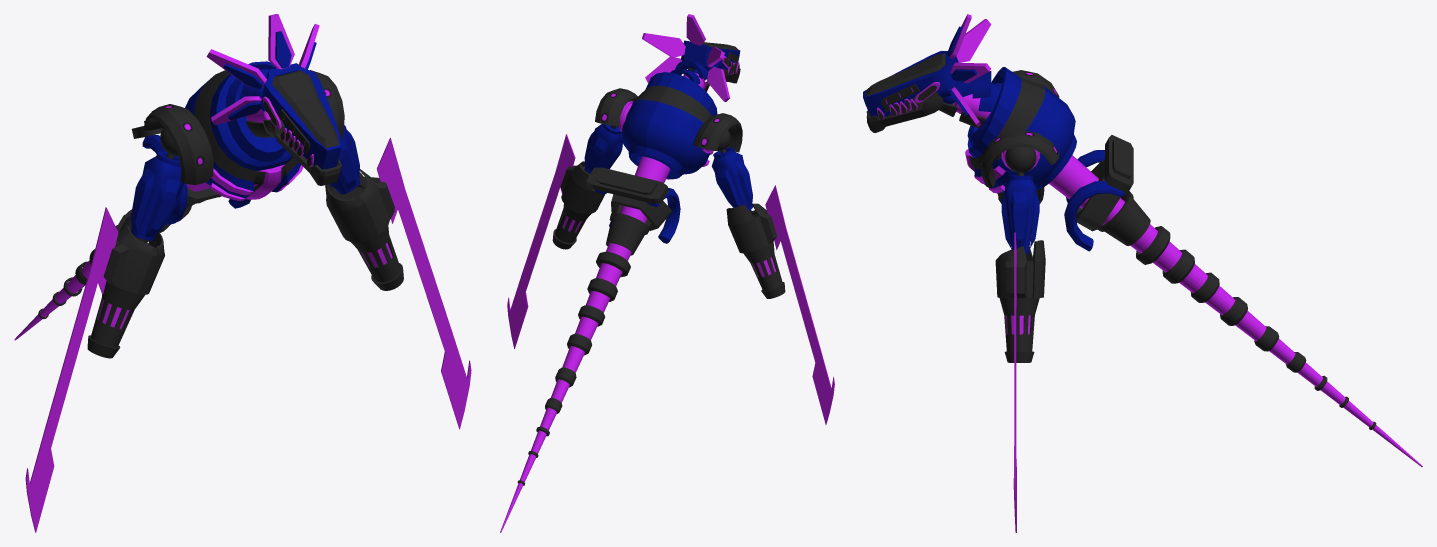
Rendered from Reaver_textured.fbx.
3 renders of one model, left to right at view 1: azimuth 30°, elevation 25°; view 2: azimuth 150°, elevation 25°; view 3: azimuth 270°, elevation 25°, orthographic. The views are drawn at different scales.
Visible parts, largest first — view 1: Left_Forearm (×2), Left_Arm_Blade (×2), Torso1, Rightt_Shoulder_Brace, Head_Top_base, Head_Plate, Left_Arm_Plate_Front (×2), Top_Arm_1, pCube2 (×2), Jaw, Tail_Center, Left_Arm_Plate_Right (+2 smaller); view 2: Torso1, Left_Forearm (×2), Left_Arm_Blade (×2), Tail_Center, pCube2 (×3), Top_Arm_1 (×2), Rightt_Shoulder_Brace, Tail_Guard, Tail_Plate, Left_Shoulder_Brace, Tail_Plate_Top, Hip_Center (+6 smaller); view 3: Torso1, Tail_Center, Left_Forearm, Head_Top_base, Left_Shoulder_Brace, Tail_Guard, Left_Hip_Brace, Hip_Center, Top_Arm_1, Jaw, Head_Plate, Left_Arm_Blade (+6 smaller).
Part boxes in pixels (x1,y1,x2,y2): Left_Forearm (×2): (87,169,403,358); Left_Arm_Blade (×2): (25,138,471,532); Torso1: (185,61,303,200); Rightt_Shoulder_Brace: (143,104,213,185); Head_Top_base: (260,63,341,169); Head_Plate: (272,70,339,148); Left_Arm_Plate_Front (×2): (145,138,356,237); Top_Arm_1: (131,151,183,240); pCube2 (×2): (206,14,294,88); Jaw: (269,117,341,185); Tail_Center: (14,182,210,340); Left_Arm_Plate_Right: (131,168,154,232); Torso1: (621,72,717,179); Left_Forearm (×2): (552,161,785,298); Left_Arm_Blade (×2): (507,134,834,424); Tail_Center: (500,156,670,532); pCube2 (×3): (642,14,730,101); Top_Arm_1 (×2): (584,124,752,210); Rightt_Shoulder_Brace: (693,113,742,152); Tail_Guard: (606,212,649,255); Tail_Plate: (586,167,668,203); Left_Shoulder_Brace: (595,88,637,126); Tail_Plate_Top: (595,169,657,194); Hip_Center: (611,194,672,230); Torso1: (965,67,1076,193); Tail_Center: (1049,155,1422,466); Left_Forearm: (995,240,1045,362); Head_Top_base: (863,51,960,117); Left_Shoulder_Brace: (981,130,1059,188); Tail_Guard: (1097,191,1150,245); Left_Hip_Brace: (1064,180,1124,251); Hip_Center: (1076,159,1120,231); Top_Arm_1: (1004,175,1036,253); Jaw: (866,91,943,132); Head_Plate: (865,53,945,96); Left_Arm_Blade: (1013,232,1016,532).
Size of the model in its own units: 7.82 by 8.65 by 9.71.
